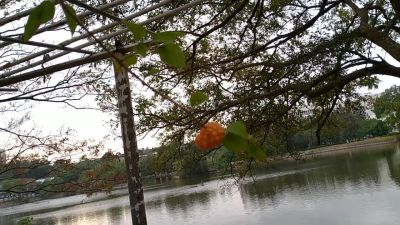eggs: (196, 120, 226, 152)
